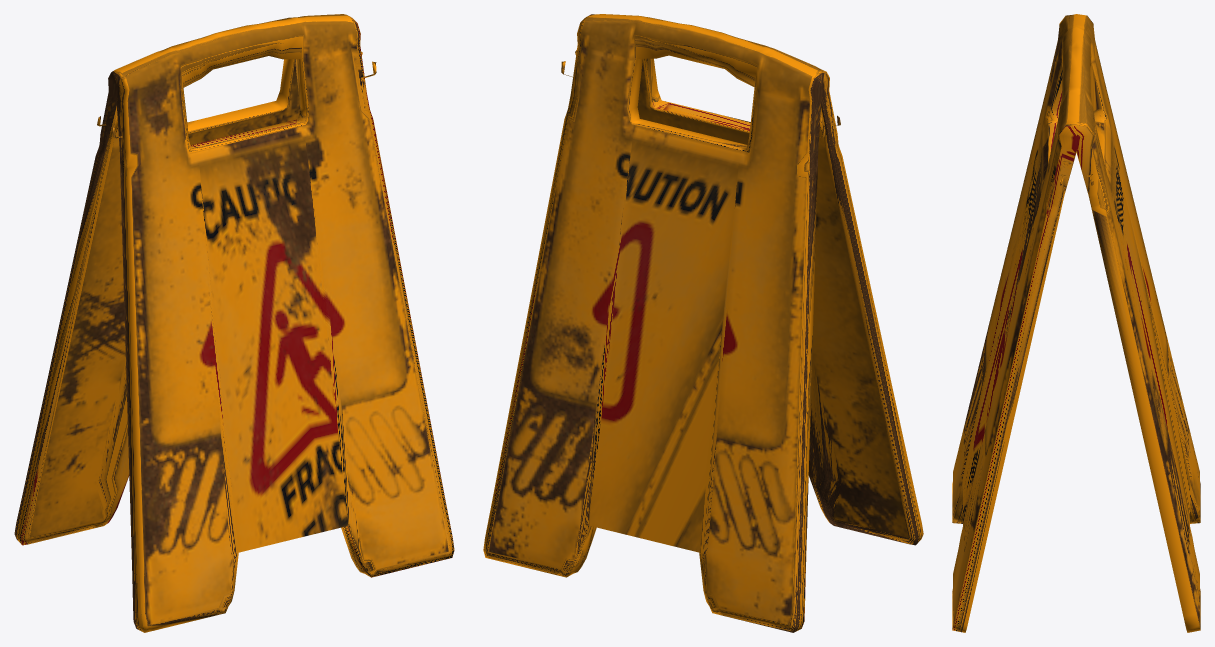
Rendered from warning_signboard.glb.
3 renders of one model, left to right at view 1: azimuth 30°, elevation 25°; view 2: azimuth 150°, elevation 25°; view 3: azimuth 270°, elevation 25°, orthographic. The views are drawn at different scales.
Visible parts, largest first — view 1: warning_signboard; view 2: warning_signboard; view 3: warning_signboard.
Boxes of the visible parts, x1,y1,x2,y2 form: warning_signboard: (14, 14, 454, 632); warning_signboard: (483, 14, 923, 632); warning_signboard: (952, 14, 1200, 632).
Bounding box in the file's own units: 0.2399 × 0.38 × 0.1693.
1 material, 1 textured.
